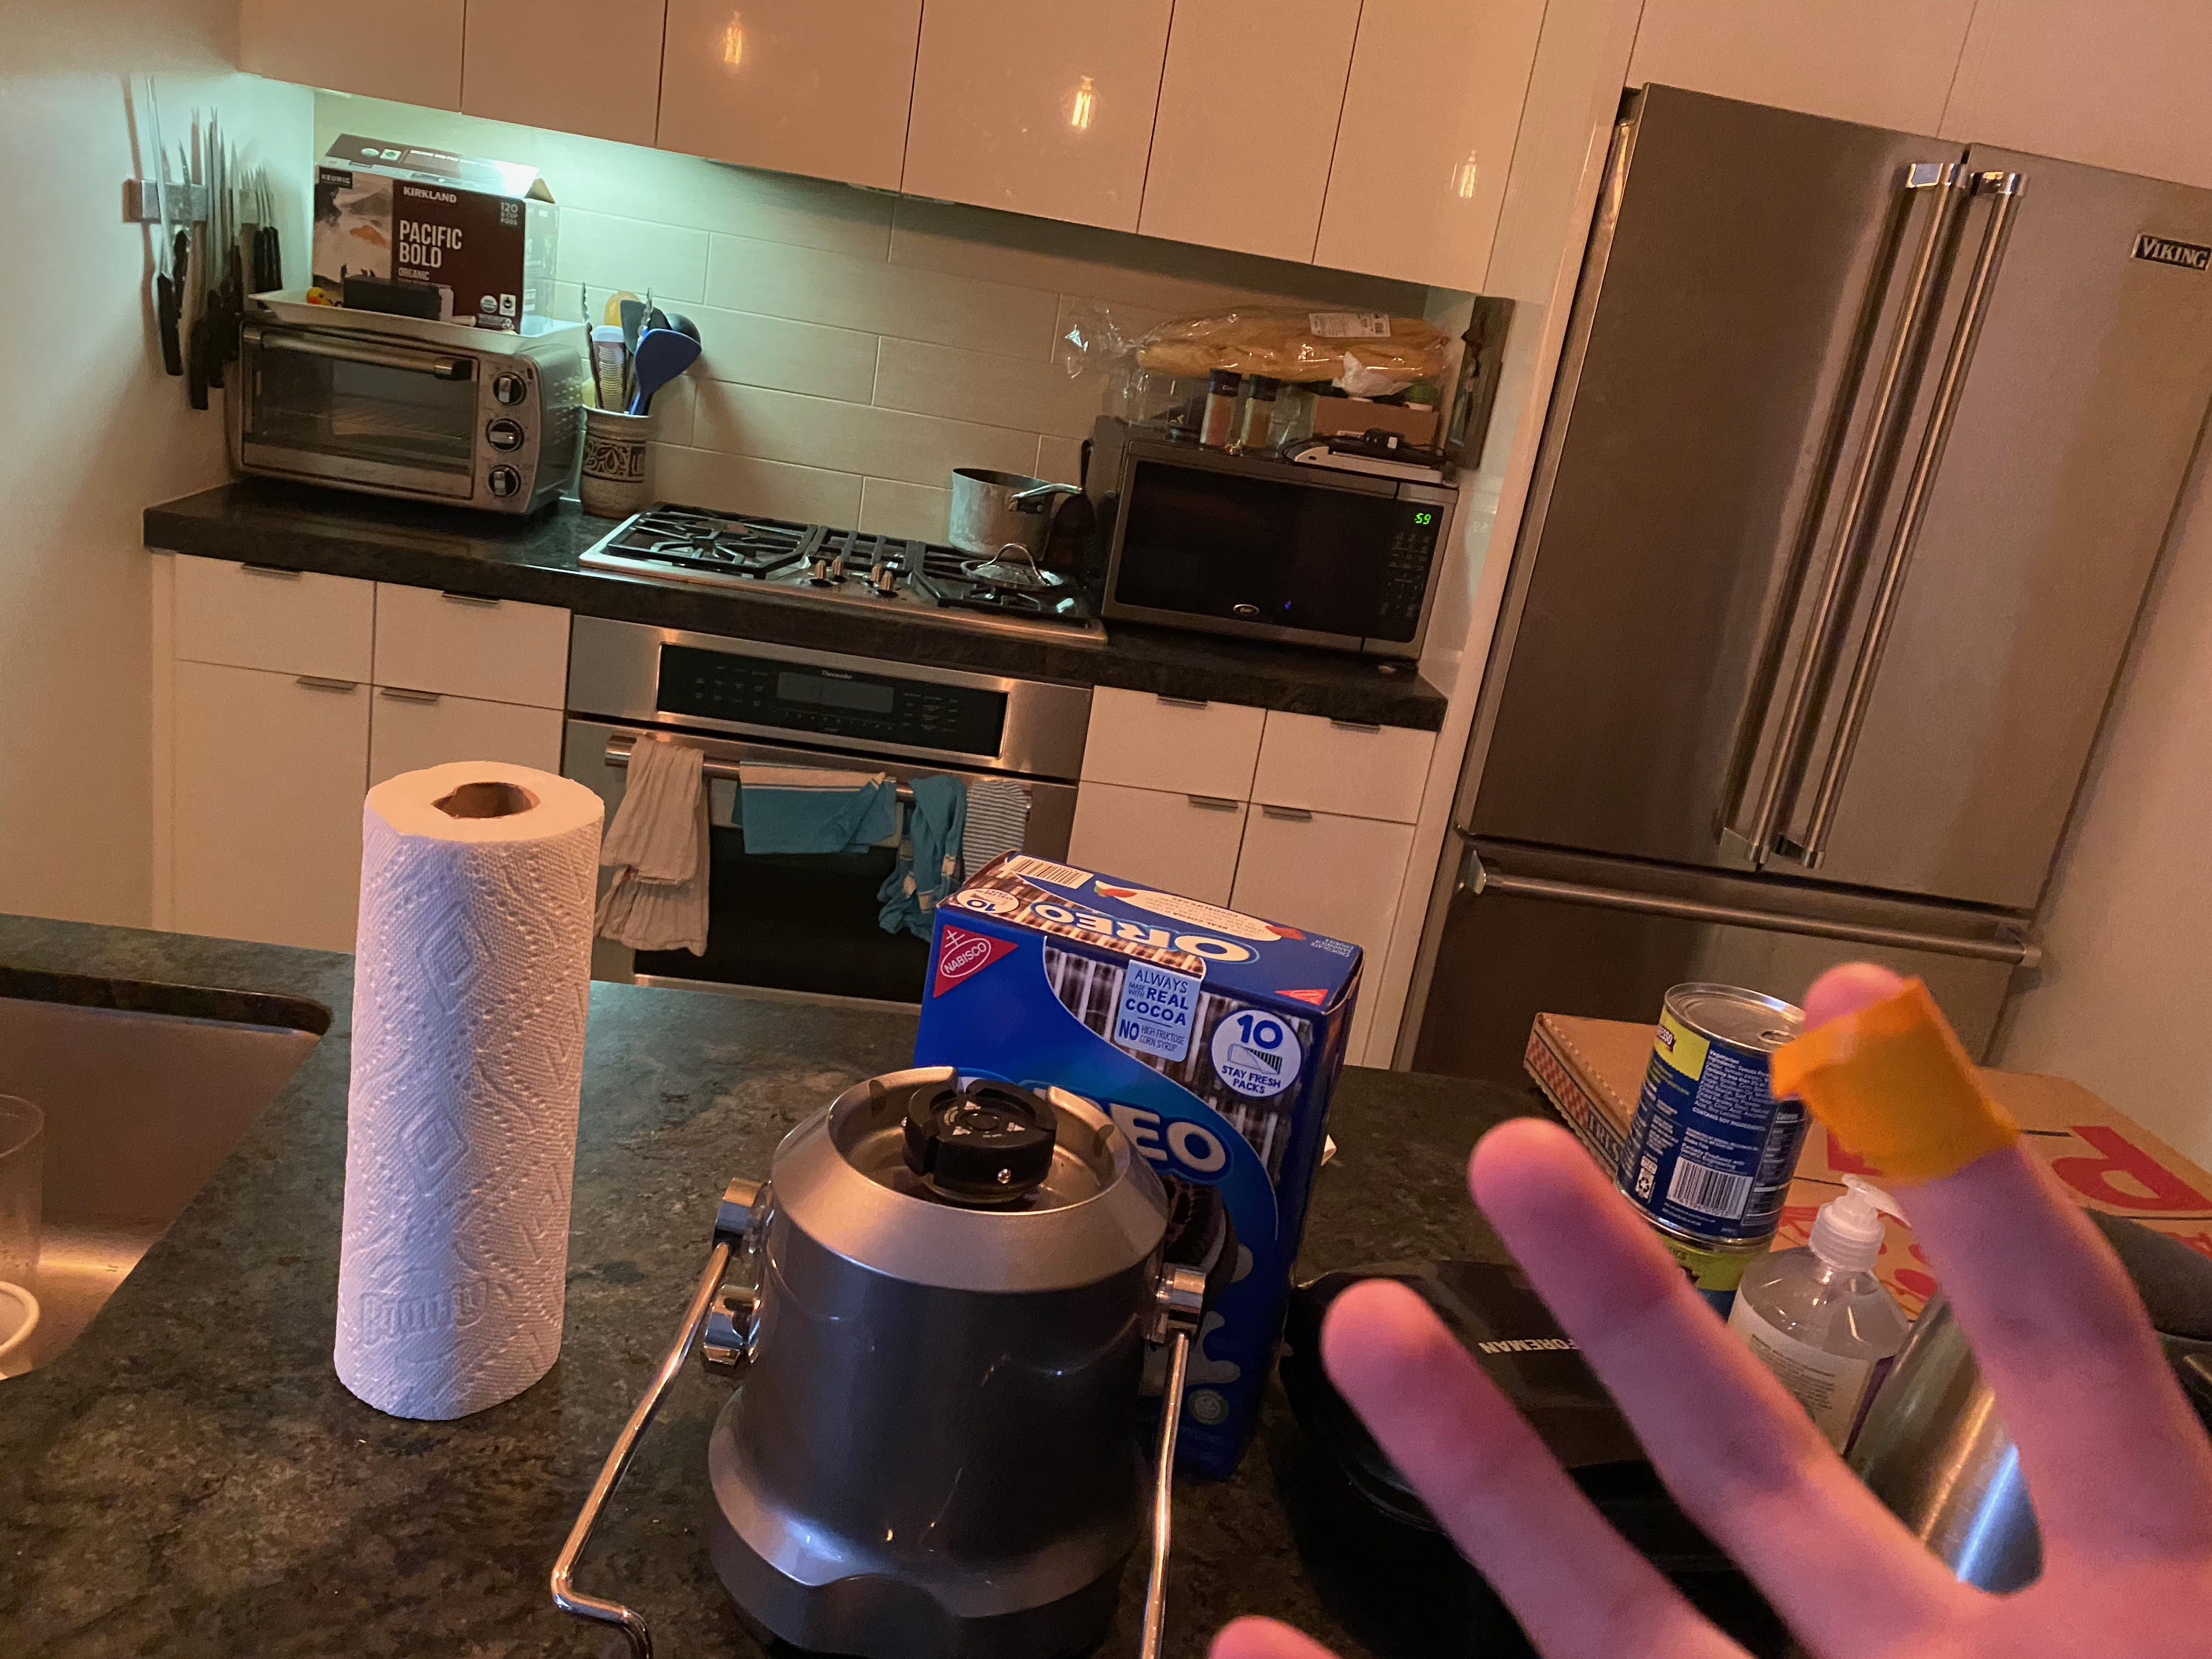fingertip: (1763, 965, 2008, 1216)
